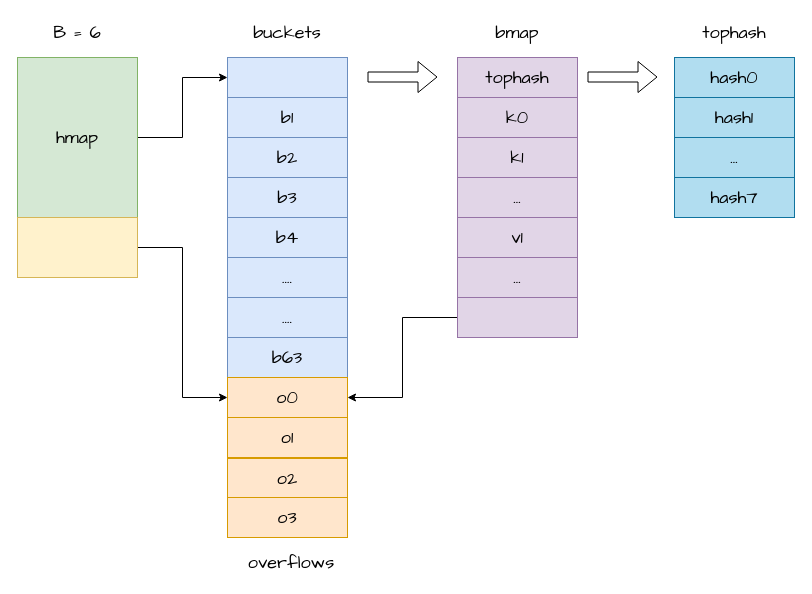
This 812x594 diagram has some shape labels left out. The shapes that lost their labels are listed below. From the top down, each one's centre as x and y in pixels, then its label:
At pixel 287 77: "b0".
At pixel 77 247: "extra".
At pixel 517 317: "overflow".
